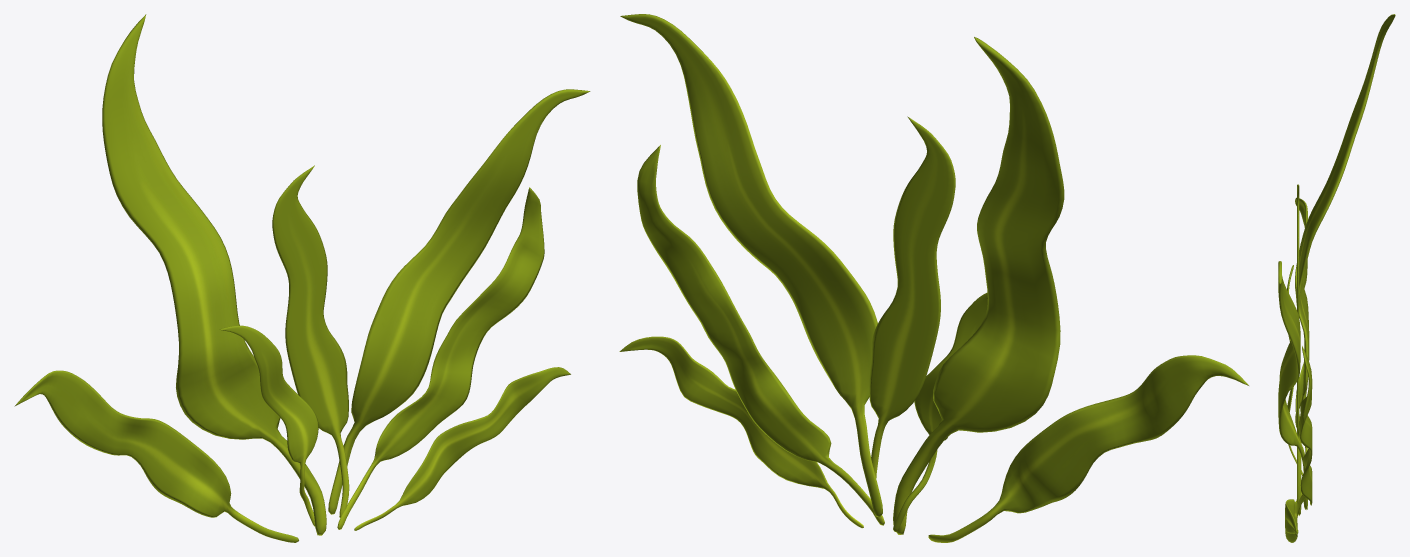
The model's file is Seaweed_Leafy.FBX.
3 renders of one model, left to right at view 1: azimuth 30°, elevation 25°; view 2: azimuth 150°, elevation 25°; view 3: azimuth 270°, elevation 25°, orthographic. The views are drawn at different scales.
Visible parts, largest first — view 1: Leaf; view 2: Leaf; view 3: Leaf.
Part boxes in pixels (x1,y1,x2,y2): Leaf: [14, 14, 590, 542]; Leaf: [619, 14, 1248, 542]; Leaf: [1278, 14, 1395, 542].
Size of the model in its own units: 8.02 by 6.94 by 1.63.
